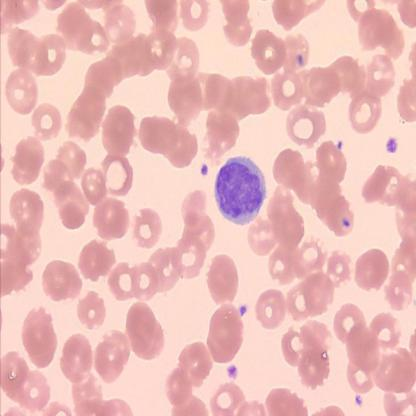Monocyte: (212, 154, 269, 226)
